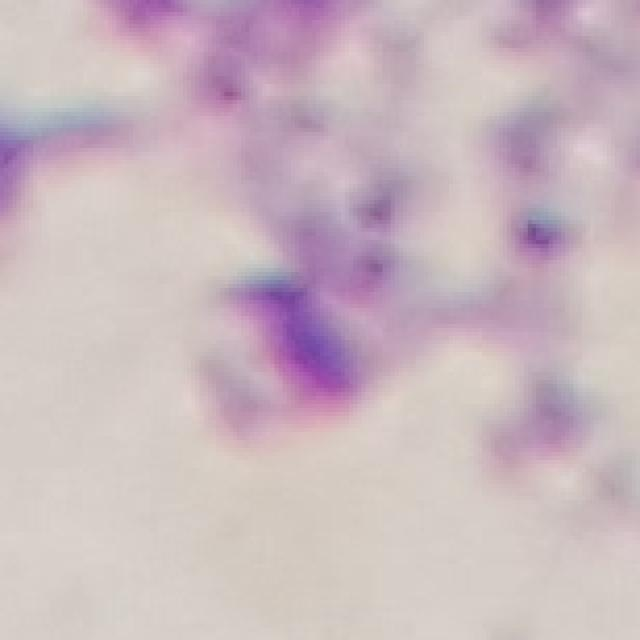non-sperm: (182, 46, 505, 439)
